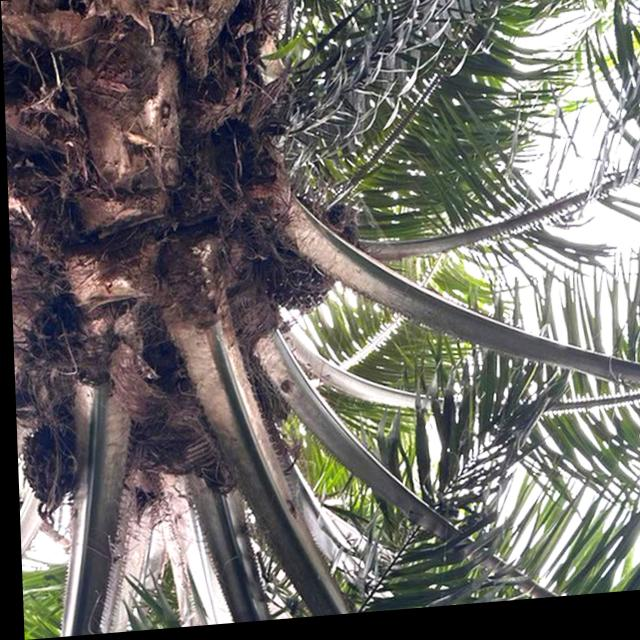almost: (254, 205, 357, 322)
